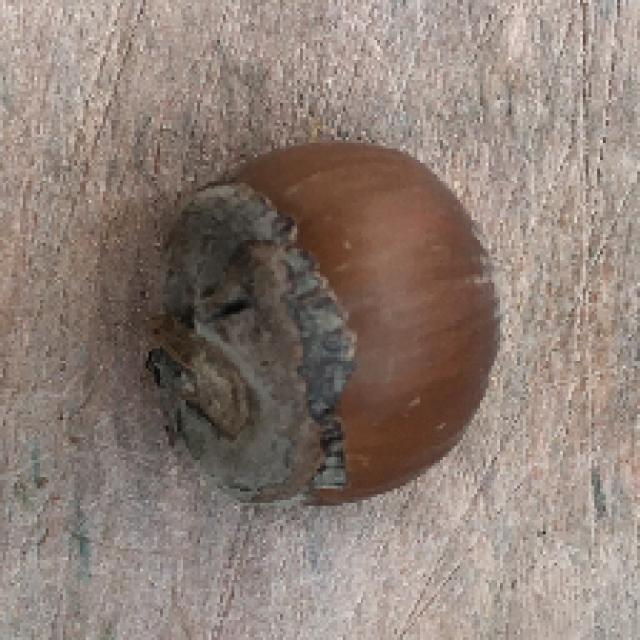damagedHazelnut: (138, 131, 516, 511)
